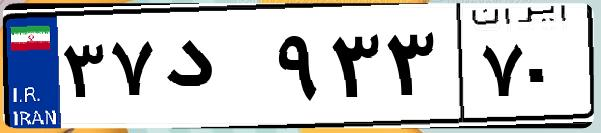0: (525, 38, 570, 115)
3: (385, 28, 445, 110), (330, 28, 385, 110), (57, 26, 110, 100)
7: (475, 38, 525, 113), (110, 28, 158, 98)
9: (270, 28, 330, 110)
د: (158, 20, 270, 120)
